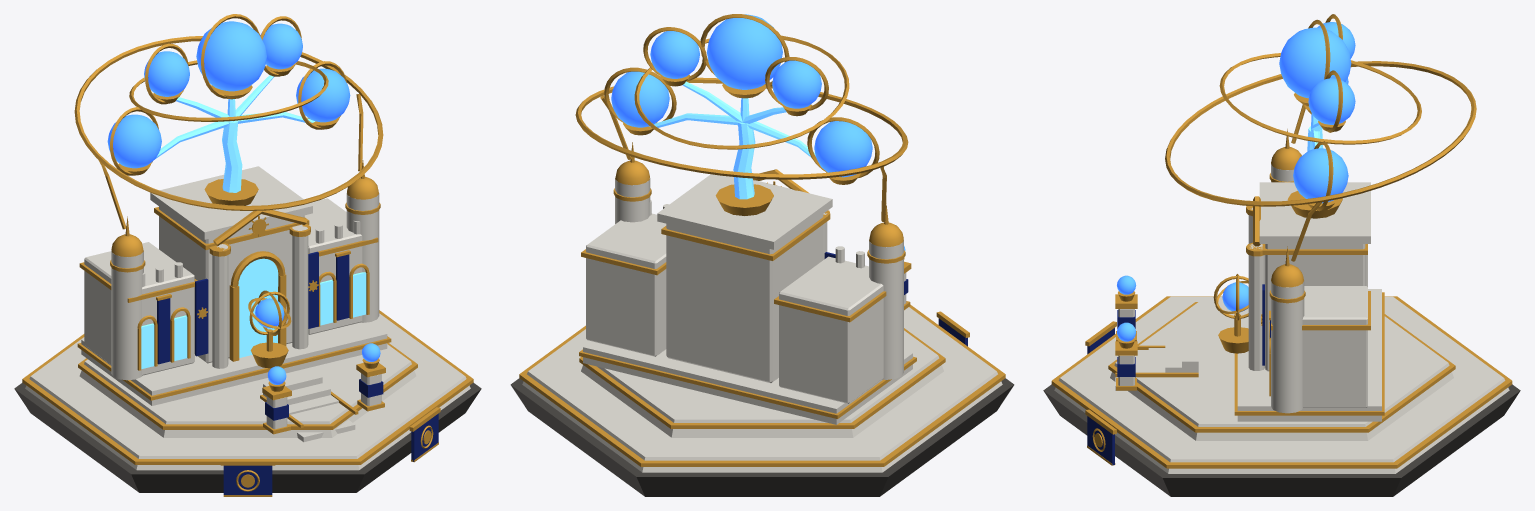
The model's file is zeus_structure_oracle_of_storms.glb.
3 views of the same model, side by side, from view 1: azimuth 30°, elevation 25°; view 2: azimuth 150°, elevation 25°; view 3: azimuth 270°, elevation 25° (orthographic). The views are drawn at different scales.
Parts seen in each view (by area): view 1: zeus_structure_oracle_of_storms; view 2: zeus_structure_oracle_of_storms; view 3: zeus_structure_oracle_of_storms.
Part boxes in pixels (x1=…): zeus_structure_oracle_of_storms: x1=14, y1=14, x2=481, y2=496; zeus_structure_oracle_of_storms: x1=510, y1=14, x2=1014, y2=496; zeus_structure_oracle_of_storms: x1=1043, y1=14, x2=1520, y2=496.
Bounding box in the file's own units: 1.49 × 1.56 × 1.72.
Materials: 1 (1 with a texture image).
